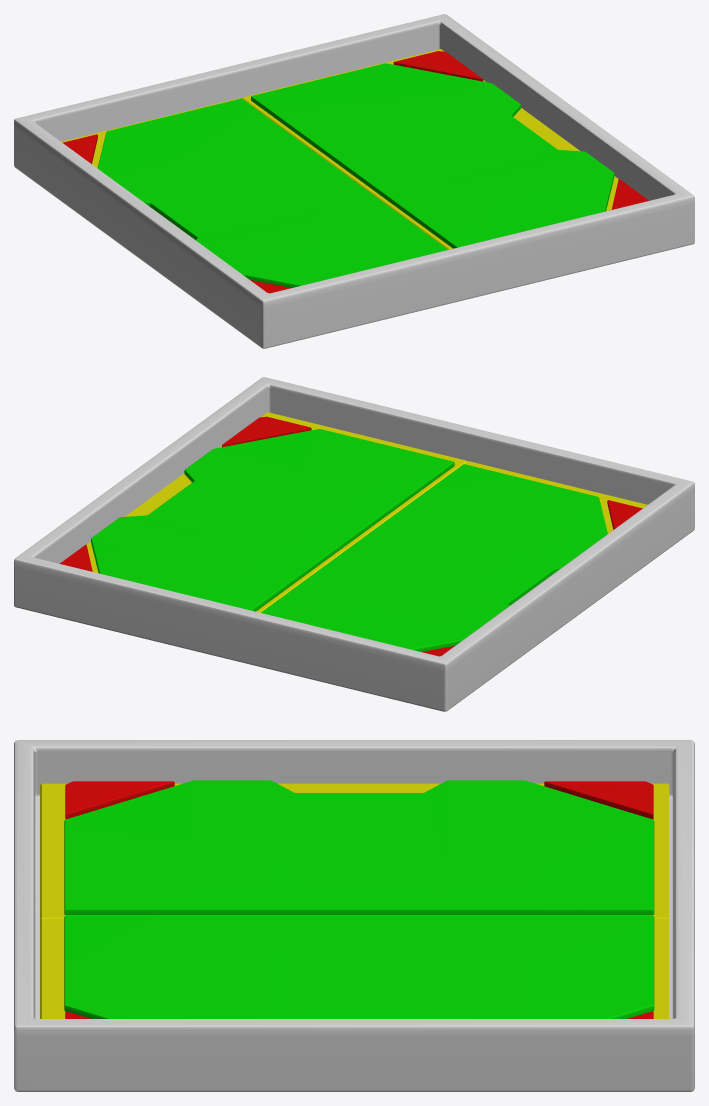
Rendered from Trap_Floor.fbx.
3 renders of one model, top to bottom at view 1: azimuth 30°, elevation 25°; view 2: azimuth 150°, elevation 25°; view 3: azimuth 270°, elevation 25°, orthographic. The views are drawn at different scales.
Parts seen in each view (by area): view 1: Trap_Floor_Base, Trap_Floor_Right_Door, Trap_Floor_Left_Door; view 2: Trap_Floor_Base, Trap_Floor_Right_Door, Trap_Floor_Left_Door; view 3: Trap_Floor_Base, Trap_Floor_Left_Door, Trap_Floor_Right_Door.
Boxes of the visible parts, left/top/right/bottom form: Trap_Floor_Base: left=14, top=14, right=694, bottom=348; Trap_Floor_Right_Door: left=241, top=49, right=648, bottom=249; Trap_Floor_Left_Door: left=61, top=98, right=447, bottom=293; Trap_Floor_Base: left=14, top=377, right=694, bottom=711; Trap_Floor_Right_Door: left=60, top=412, right=467, bottom=612; Trap_Floor_Left_Door: left=261, top=461, right=647, bottom=656; Trap_Floor_Base: left=14, top=740, right=694, bottom=1091; Trap_Floor_Left_Door: left=40, top=780, right=669, bottom=920; Trap_Floor_Right_Door: left=40, top=915, right=669, bottom=1018.
Size of the model in its own units: 573 by 62.15 by 573.
